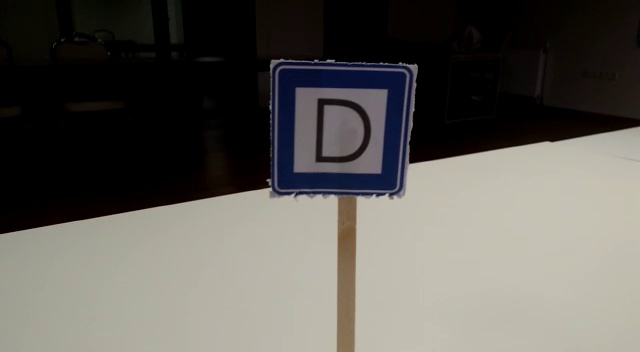durak: (272, 62, 417, 195)
